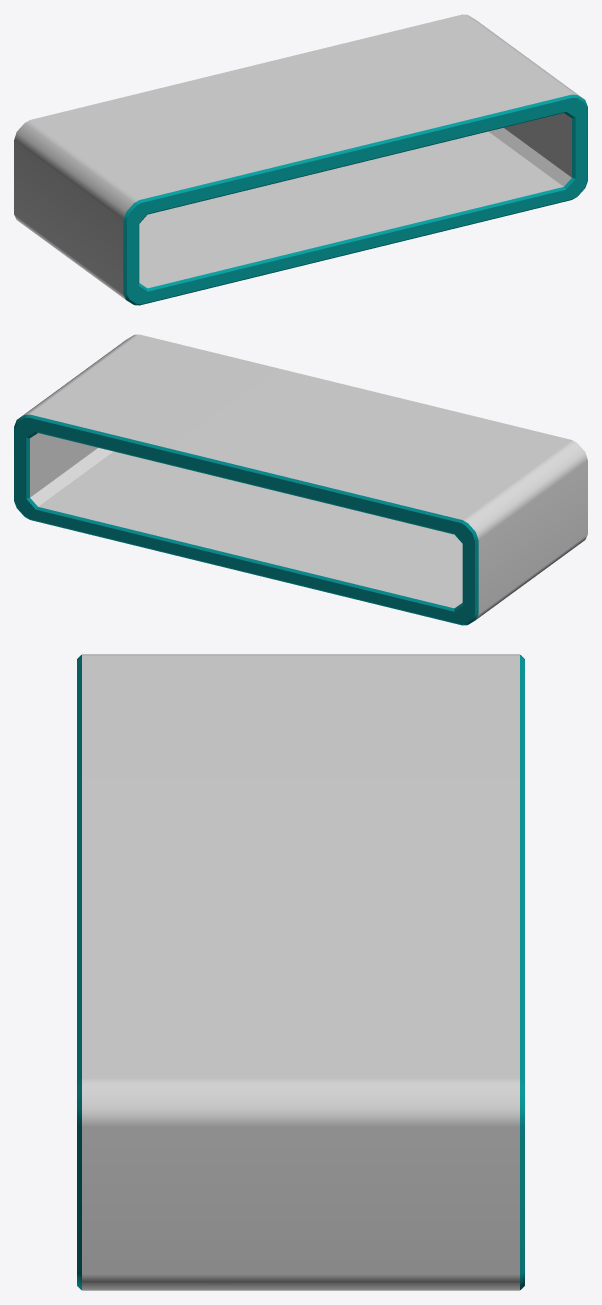
The model's file is MOD_SOFA_DESK.fbx.
The picture shows the model from 3 angles, top to bottom: view 1: azimuth 30°, elevation 25°; view 2: azimuth 150°, elevation 25°; view 3: azimuth 270°, elevation 25°; orthographic projection. The views are drawn at different scales.
Visible parts, largest first — view 1: sofa_table; view 2: sofa_table; view 3: sofa_table.
Part boxes in pixels (x1=…): sofa_table: x1=14, y1=14, x2=587, y2=305; sofa_table: x1=14, y1=334, x2=587, y2=625; sofa_table: x1=77, y1=654, x2=524, y2=1290.
Bounding box in the file's own units: 2.45 × 0.531 × 1.02.
